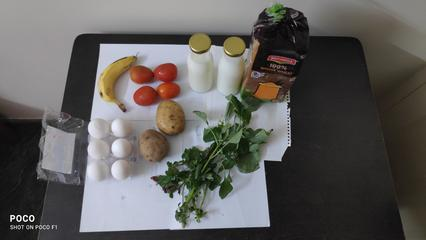banana: (98, 54, 127, 107)
bread: (247, 7, 300, 101)
eggs: (87, 117, 135, 185)
milk: (184, 31, 216, 90), (219, 39, 243, 92)
potato: (157, 103, 187, 131), (140, 130, 165, 161)
spinach: (175, 95, 256, 224)
tomato: (129, 88, 160, 107), (155, 62, 180, 82), (132, 65, 155, 85), (156, 83, 181, 98)
